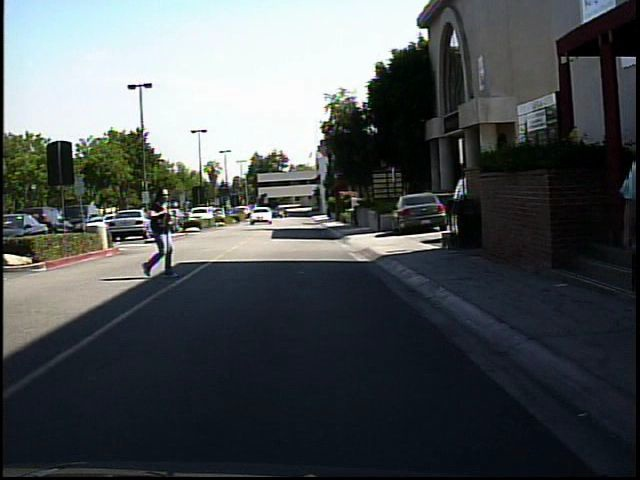person: (137, 182, 182, 281)
